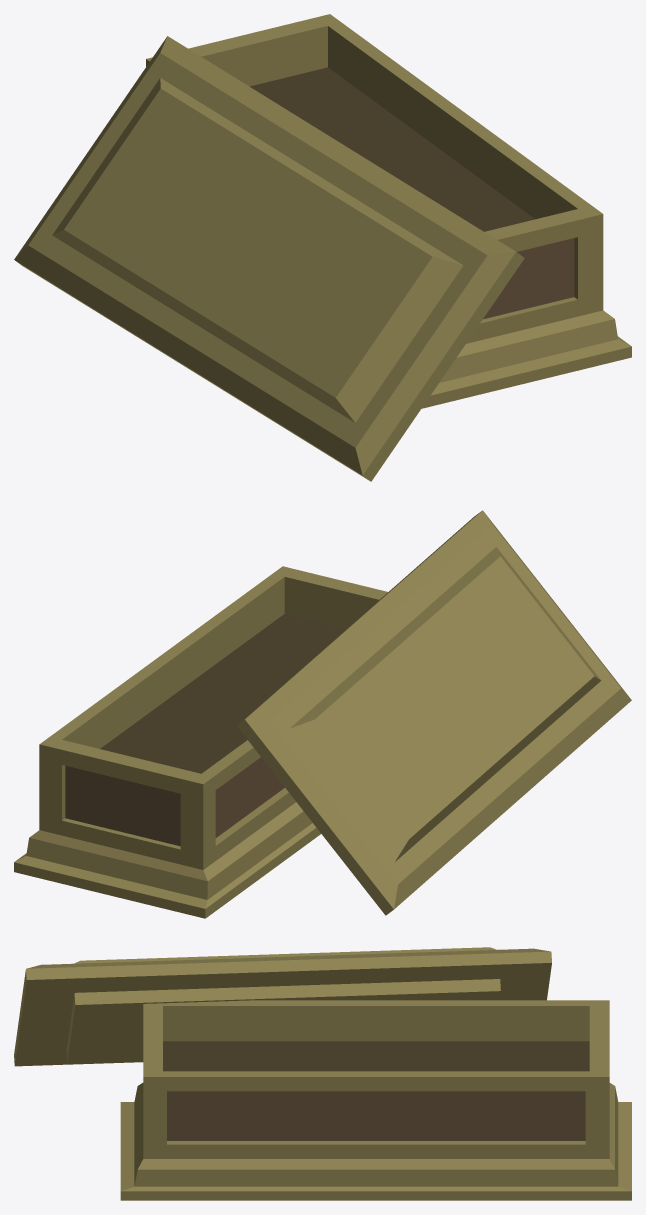
Rendered from Coffin1.fbx.
The picture shows the model from 3 angles, top to bottom: view 1: azimuth 30°, elevation 25°; view 2: azimuth 150°, elevation 25°; view 3: azimuth 270°, elevation 25°; orthographic projection. The views are drawn at different scales.
Parts seen in each view (by area): view 1: Coffin1; view 2: Coffin1; view 3: Coffin1.
Boxes of the visible parts, box(x1,y1,x2,y2) form: Coffin1: box(14, 14, 631, 481); Coffin1: box(14, 510, 631, 918); Coffin1: box(14, 947, 631, 1200).
Size of the model in its own units: 1.42 by 0.6858 by 2.39.
